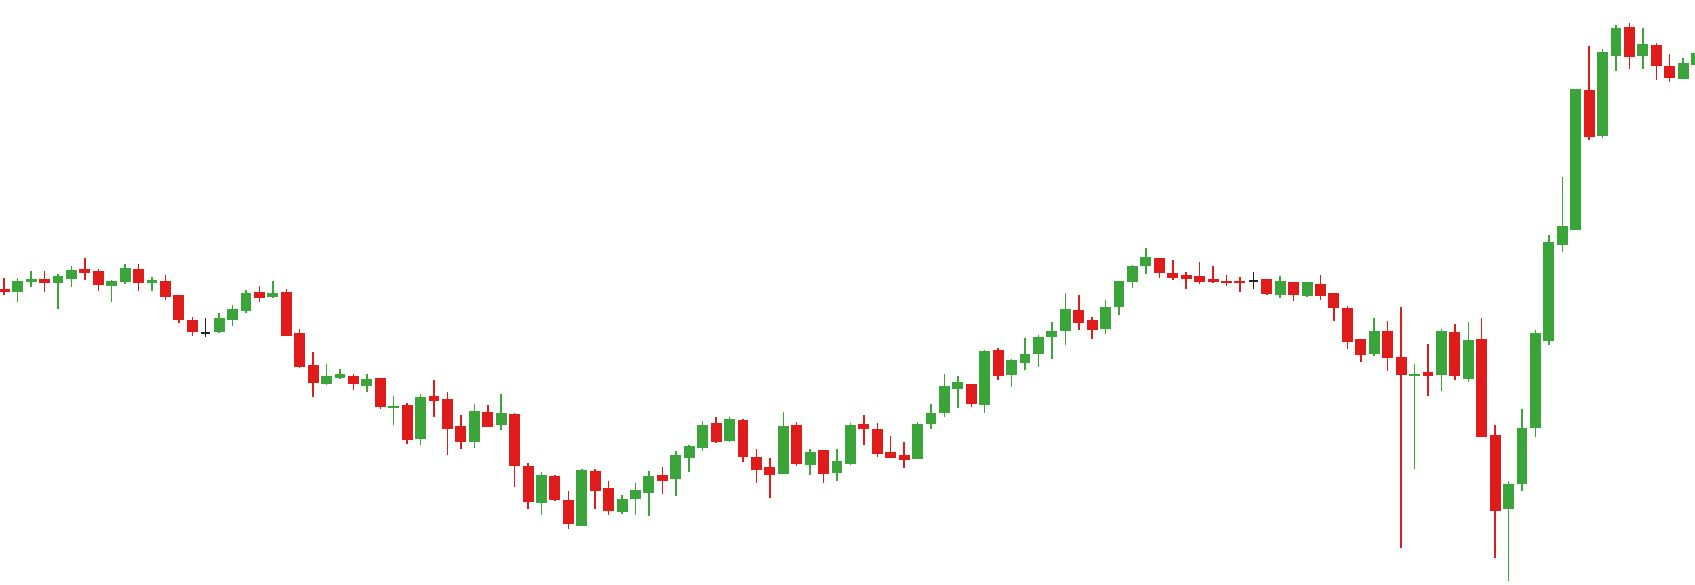buy: (1393, 363, 1516, 585)
